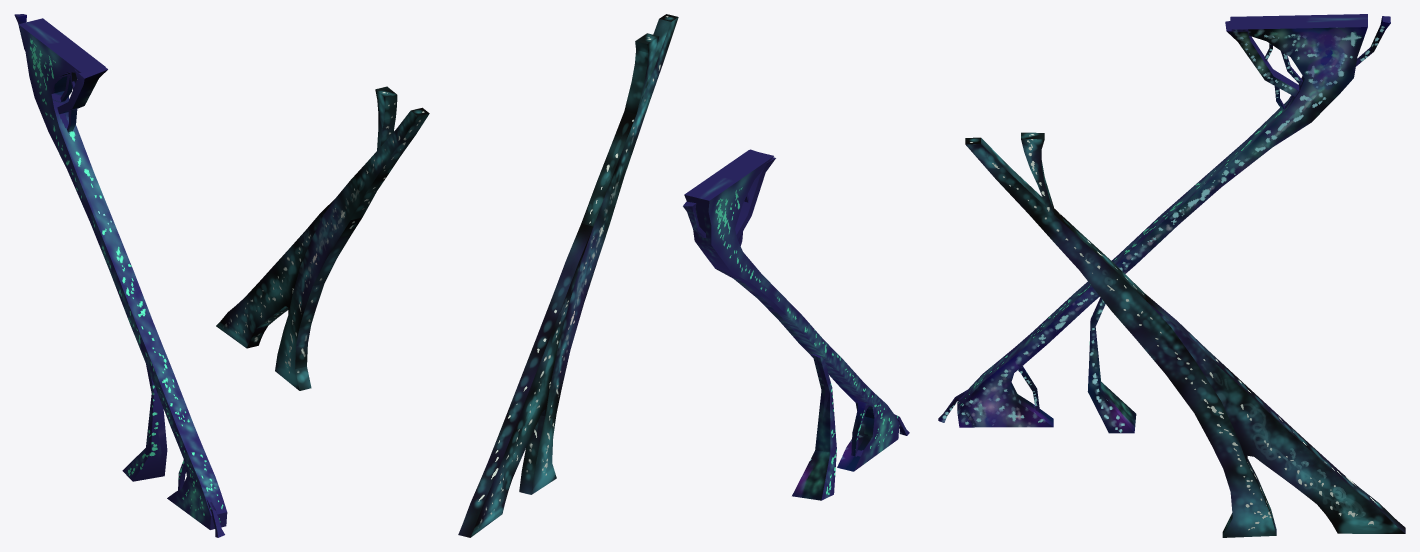
The model's file is web3.fbx.
3 views of the same model, side by side, from view 1: azimuth 30°, elevation 25°; view 2: azimuth 150°, elevation 25°; view 3: azimuth 270°, elevation 25° (orthographic). The views are drawn at different scales.
Visible parts, largest first — view 1: Cube.008, Cube; view 2: Cube, Cube.008; view 3: Cube, Cube.008.
Boxes of the visible parts, x1=… form: Cube.008: x1=14, y1=14, x2=227, y2=537; Cube: x1=216, y1=86, x2=429, y2=390; Cube: x1=458, y1=14, x2=678, y2=537; Cube.008: x1=683, y1=149, x2=909, y2=500; Cube: x1=965, y1=132, x2=1405, y2=537; Cube.008: x1=938, y1=14, x2=1390, y2=433.
Bounding box in the file's own units: 663 × 1028 × 1072.
Materials: 2 (2 with a texture image).
